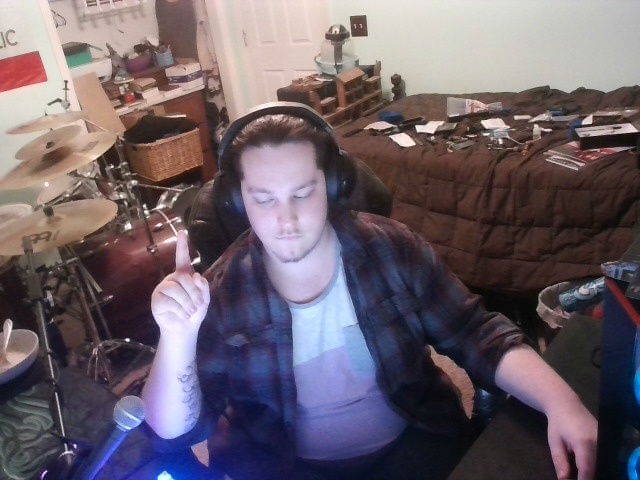up: (118, 221, 231, 344)
